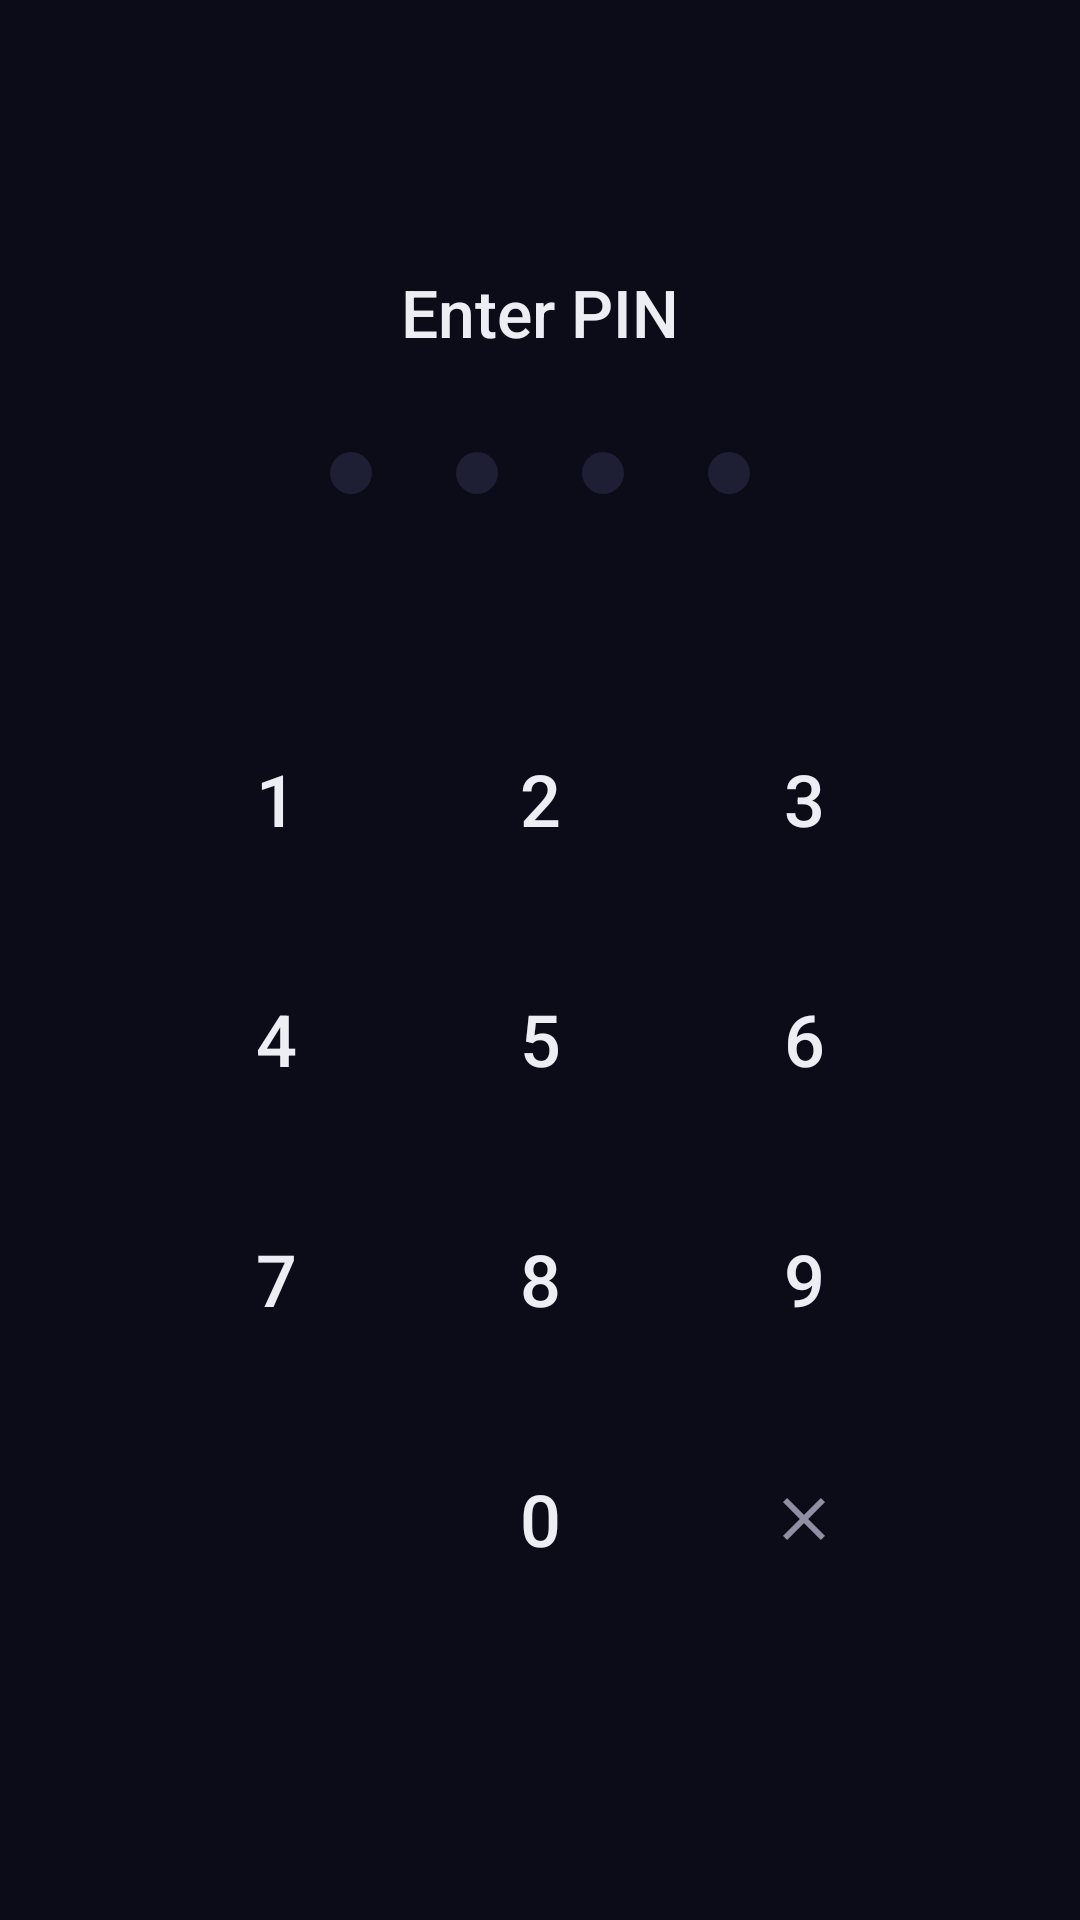

Where icons sit on this 1080 x 1920 app screen, as (x1, y1, x2, y2):
Delete: (783, 1498, 825, 1540)
